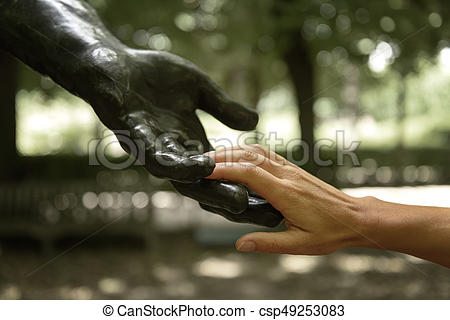finger: (201, 162, 290, 205), (125, 146, 217, 174), (207, 149, 284, 176), (221, 143, 293, 163)
